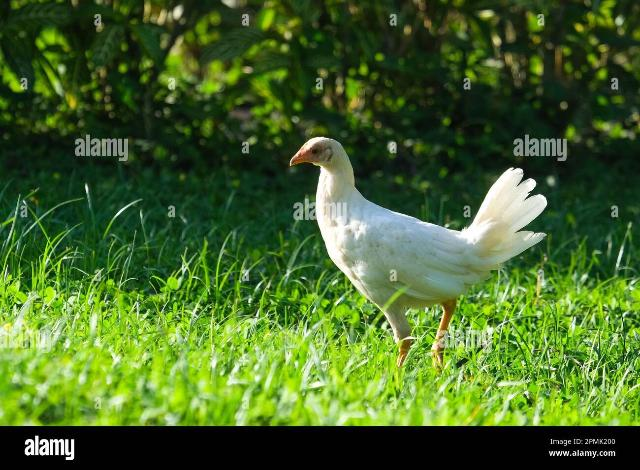Chicken: (288, 137, 551, 365)
